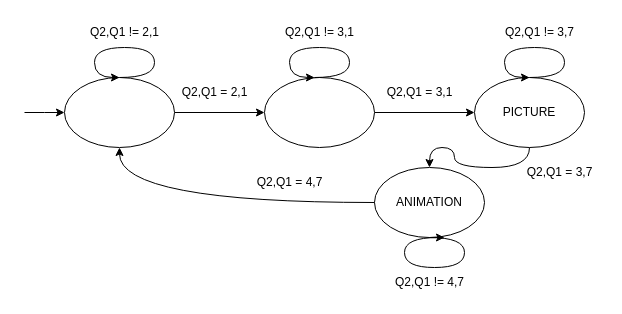
This 622x314 diagram has some shape labels left out. Each missing label, with the box of its shape:
BCD: (64, 76, 174, 148)
BCD_INV: (264, 76, 374, 148)
